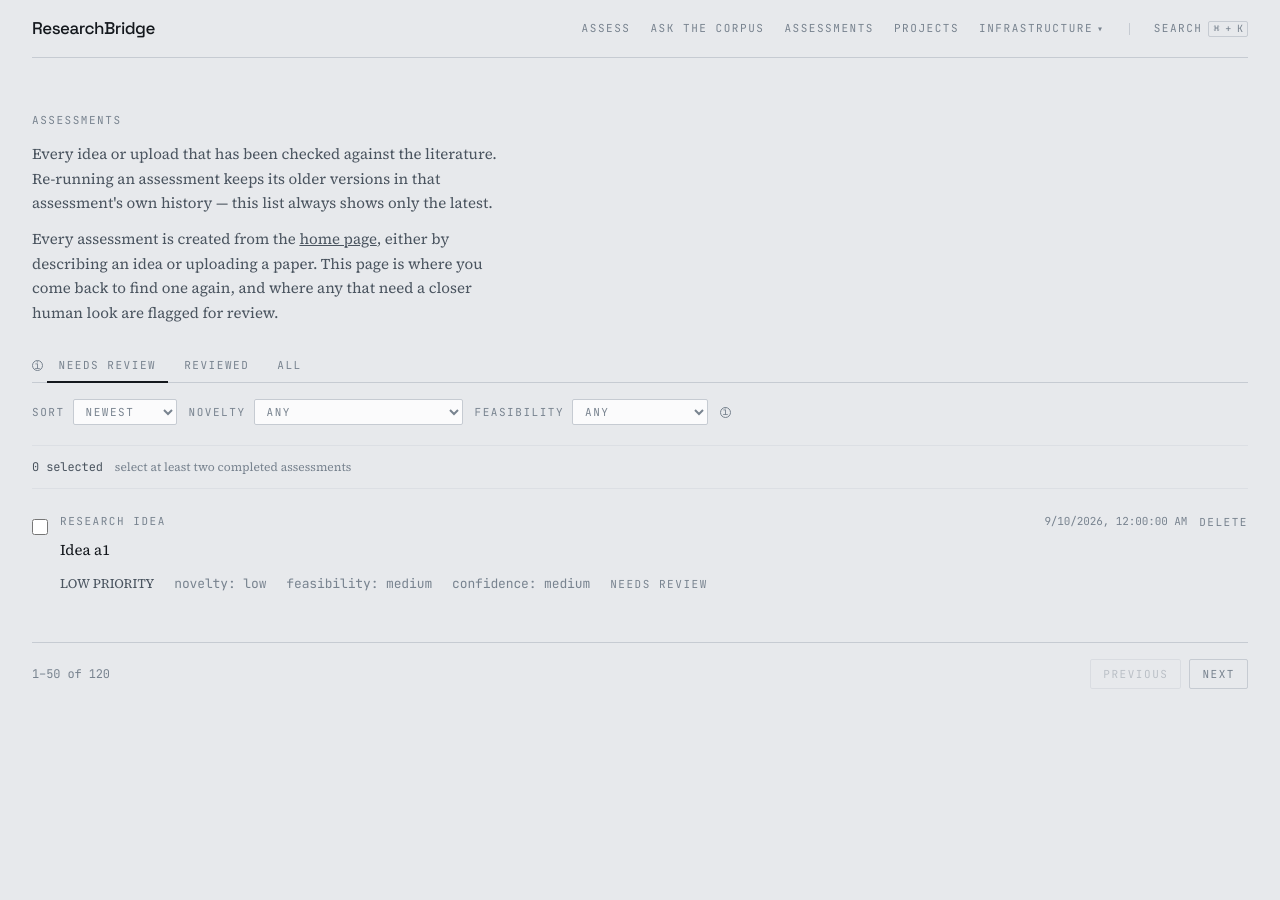
Assessments page pagination › shows next/previous controls when more results exist than fit on one page, and pages through them
Check: the text "1–50 of 120" is shown, box [32, 665, 110, 683]
Click the button "next" at x=1219, y=674, box [1189, 659, 1248, 689]
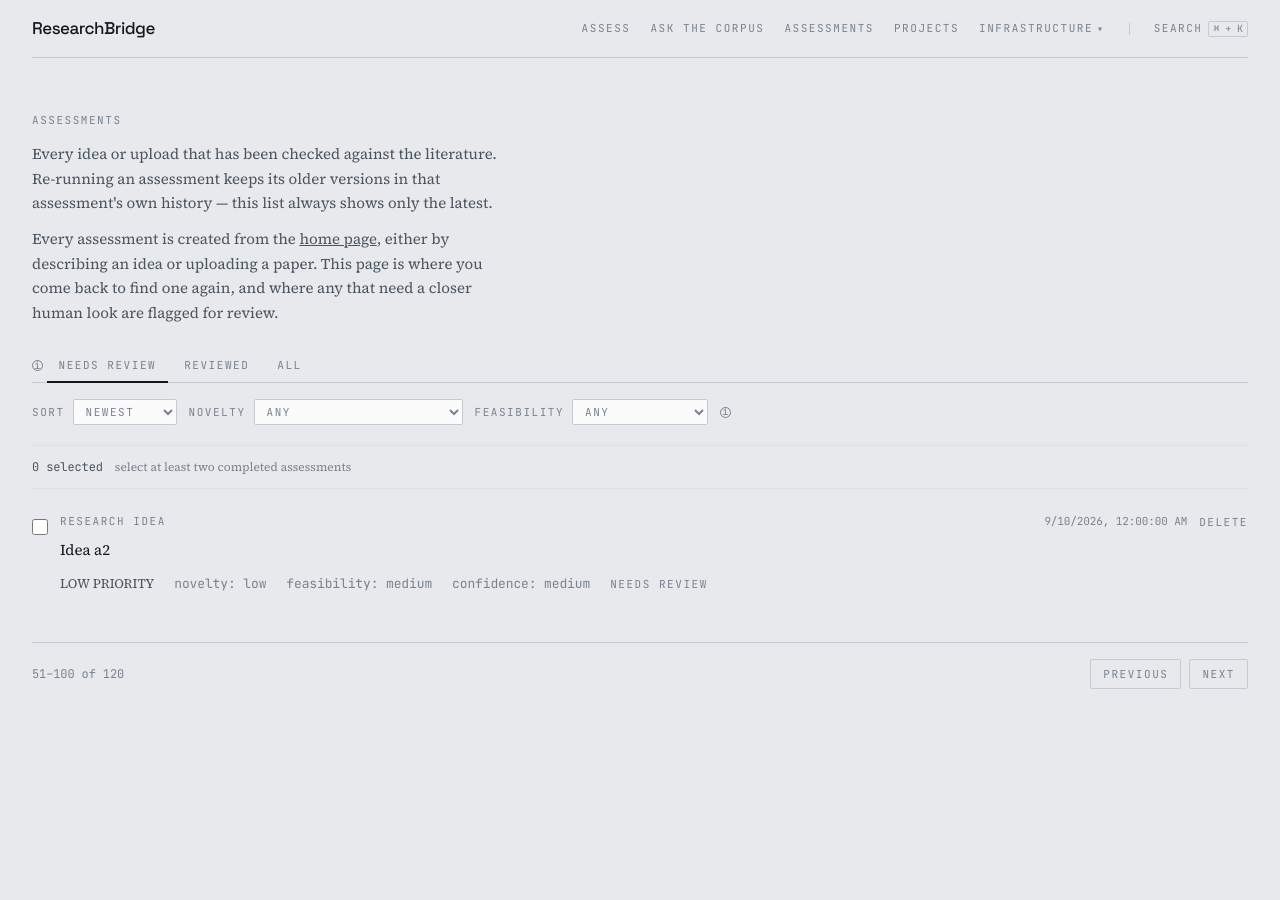
Check: the text "51–100 of 120" is shown, box [32, 665, 124, 683]
